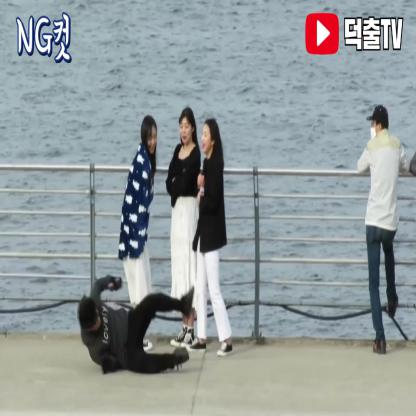Fall_Down: (78, 272, 196, 374)
